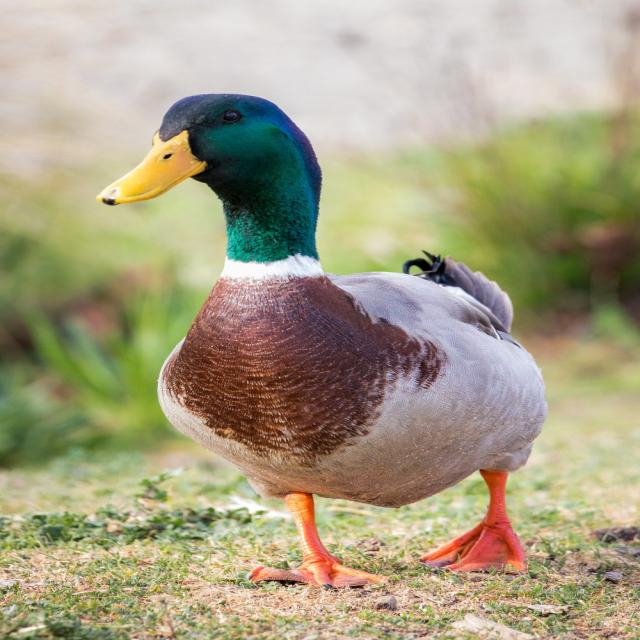Duck: (84, 88, 566, 590)
